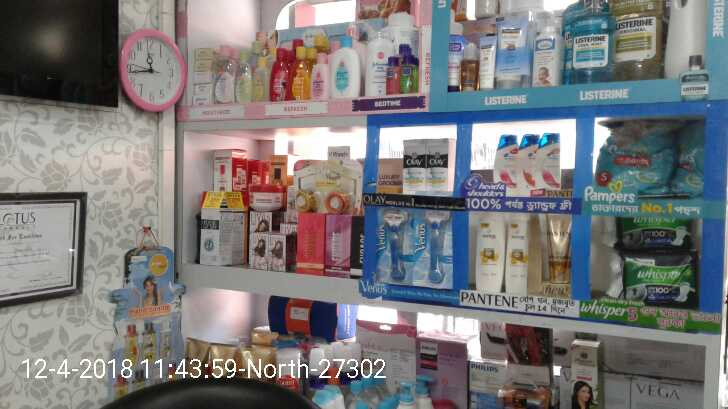venus: (413, 209, 453, 288), (377, 209, 413, 286)
